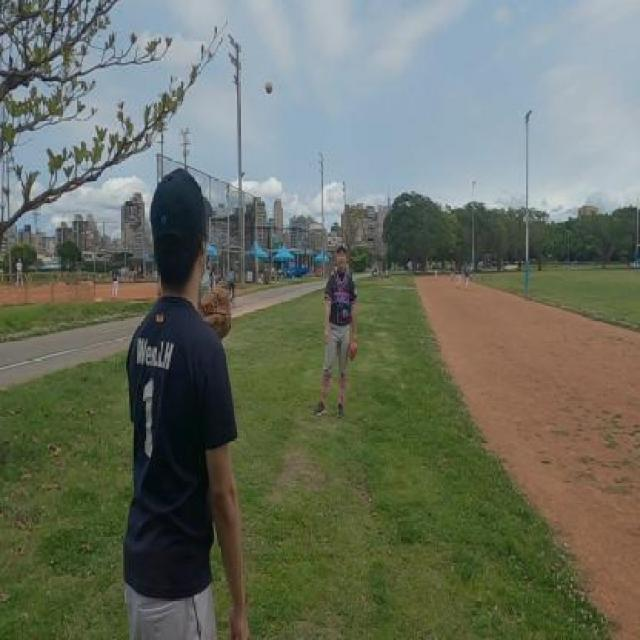baseball: (265, 81, 273, 94)
